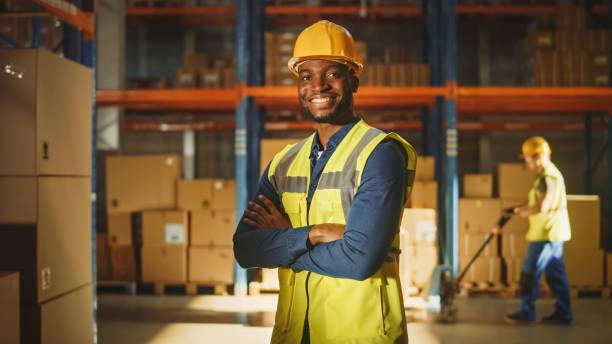capacete: (284, 19, 370, 73), (512, 135, 556, 155)
pessoa: (237, 10, 414, 344), (501, 132, 575, 329)
uniforme seguranca: (259, 120, 407, 344)
unifr: (519, 170, 572, 244)
